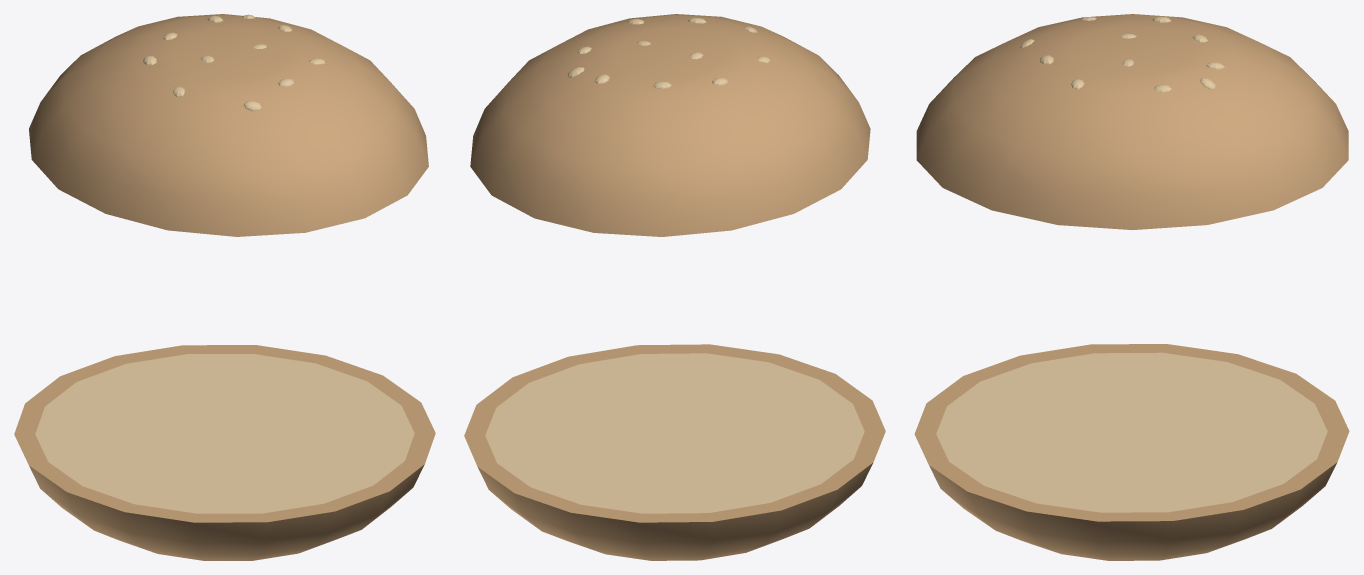
The model's file is OBJ_PANES_ARRIBA_Y_ABAJO_MARCO.fbx.
The picture shows the model from 3 angles, left to right: view 1: azimuth 30°, elevation 25°; view 2: azimuth 150°, elevation 25°; view 3: azimuth 270°, elevation 25°; orthographic projection.
Parts seen in each view (by area): view 1: pan_abajo, pan_arriba; view 2: pan_abajo, pan_arriba; view 3: pan_abajo, pan_arriba.
Part boxes in pixels (x1=…): pan_abajo: x1=14, y1=345, x2=435, y2=560; pan_arriba: x1=29, y1=14, x2=428, y2=236; pan_abajo: x1=464, y1=344, x2=885, y2=560; pan_arriba: x1=470, y1=14, x2=870, y2=236; pan_abajo: x1=914, y1=344, x2=1349, y2=560; pan_arriba: x1=916, y1=14, x2=1348, y2=230.
Size of the model in its own units: 6.4 by 7.94 by 6.62.
